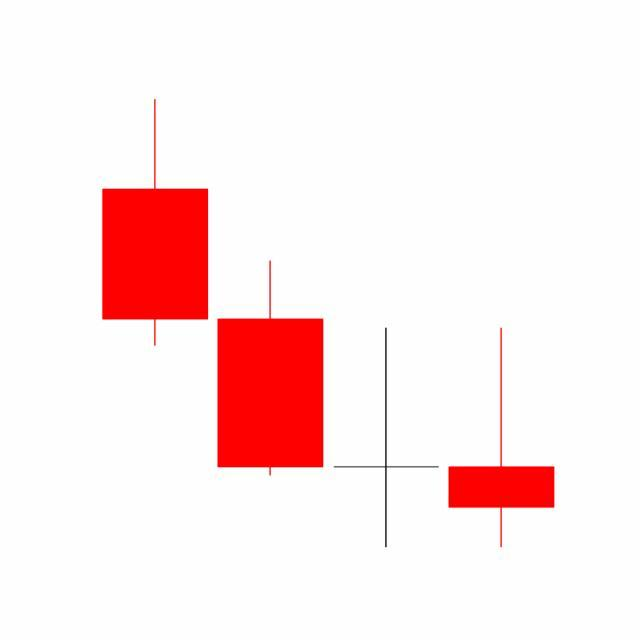Spinning Top: (329, 326, 445, 550)
